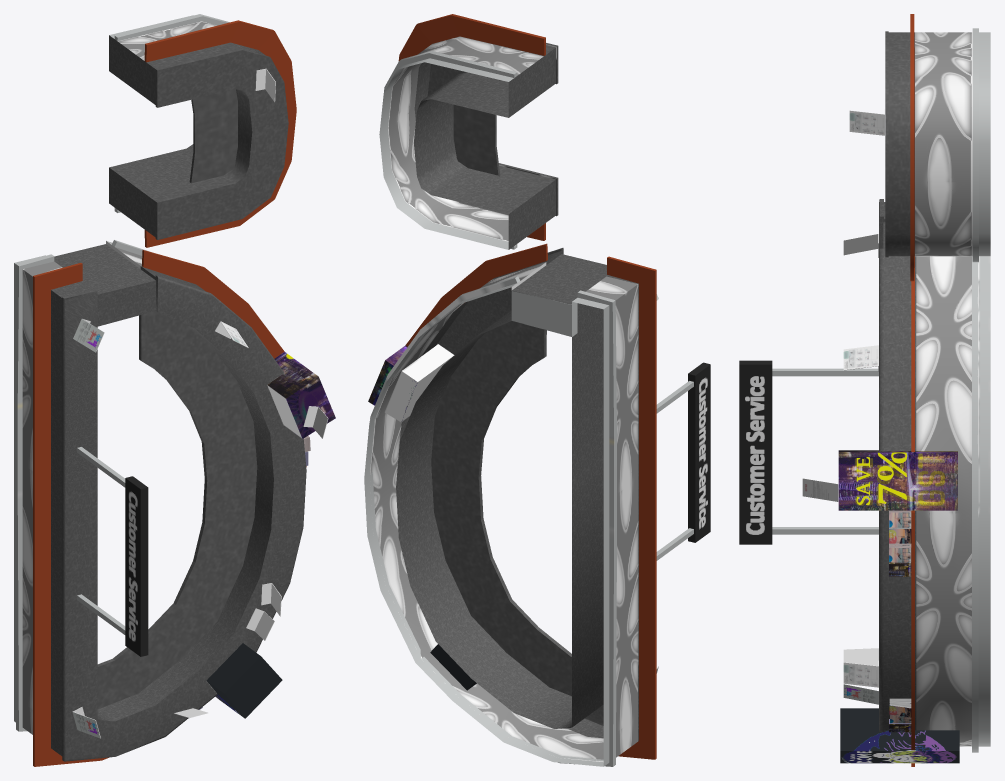
Rendered from InformationCounter.obj.
3 views of the same model, side by side, from view 1: azimuth 30°, elevation 25°; view 2: azimuth 150°, elevation 25°; view 3: azimuth 270°, elevation 25° (orthographic). The views are drawn at different scales.
Visible parts, largest first — view 1: InformationCounter; view 2: InformationCounter; view 3: InformationCounter.
Boxes of the visible parts, bbox=[...] form: InformationCounter: bbox=[14, 14, 335, 766]; InformationCounter: bbox=[364, 14, 710, 766]; InformationCounter: bbox=[739, 14, 990, 766].
Size of the model in its own units: 3.34 by 8.27 by 2.49.
Materials: 1 (1 with a texture image).
